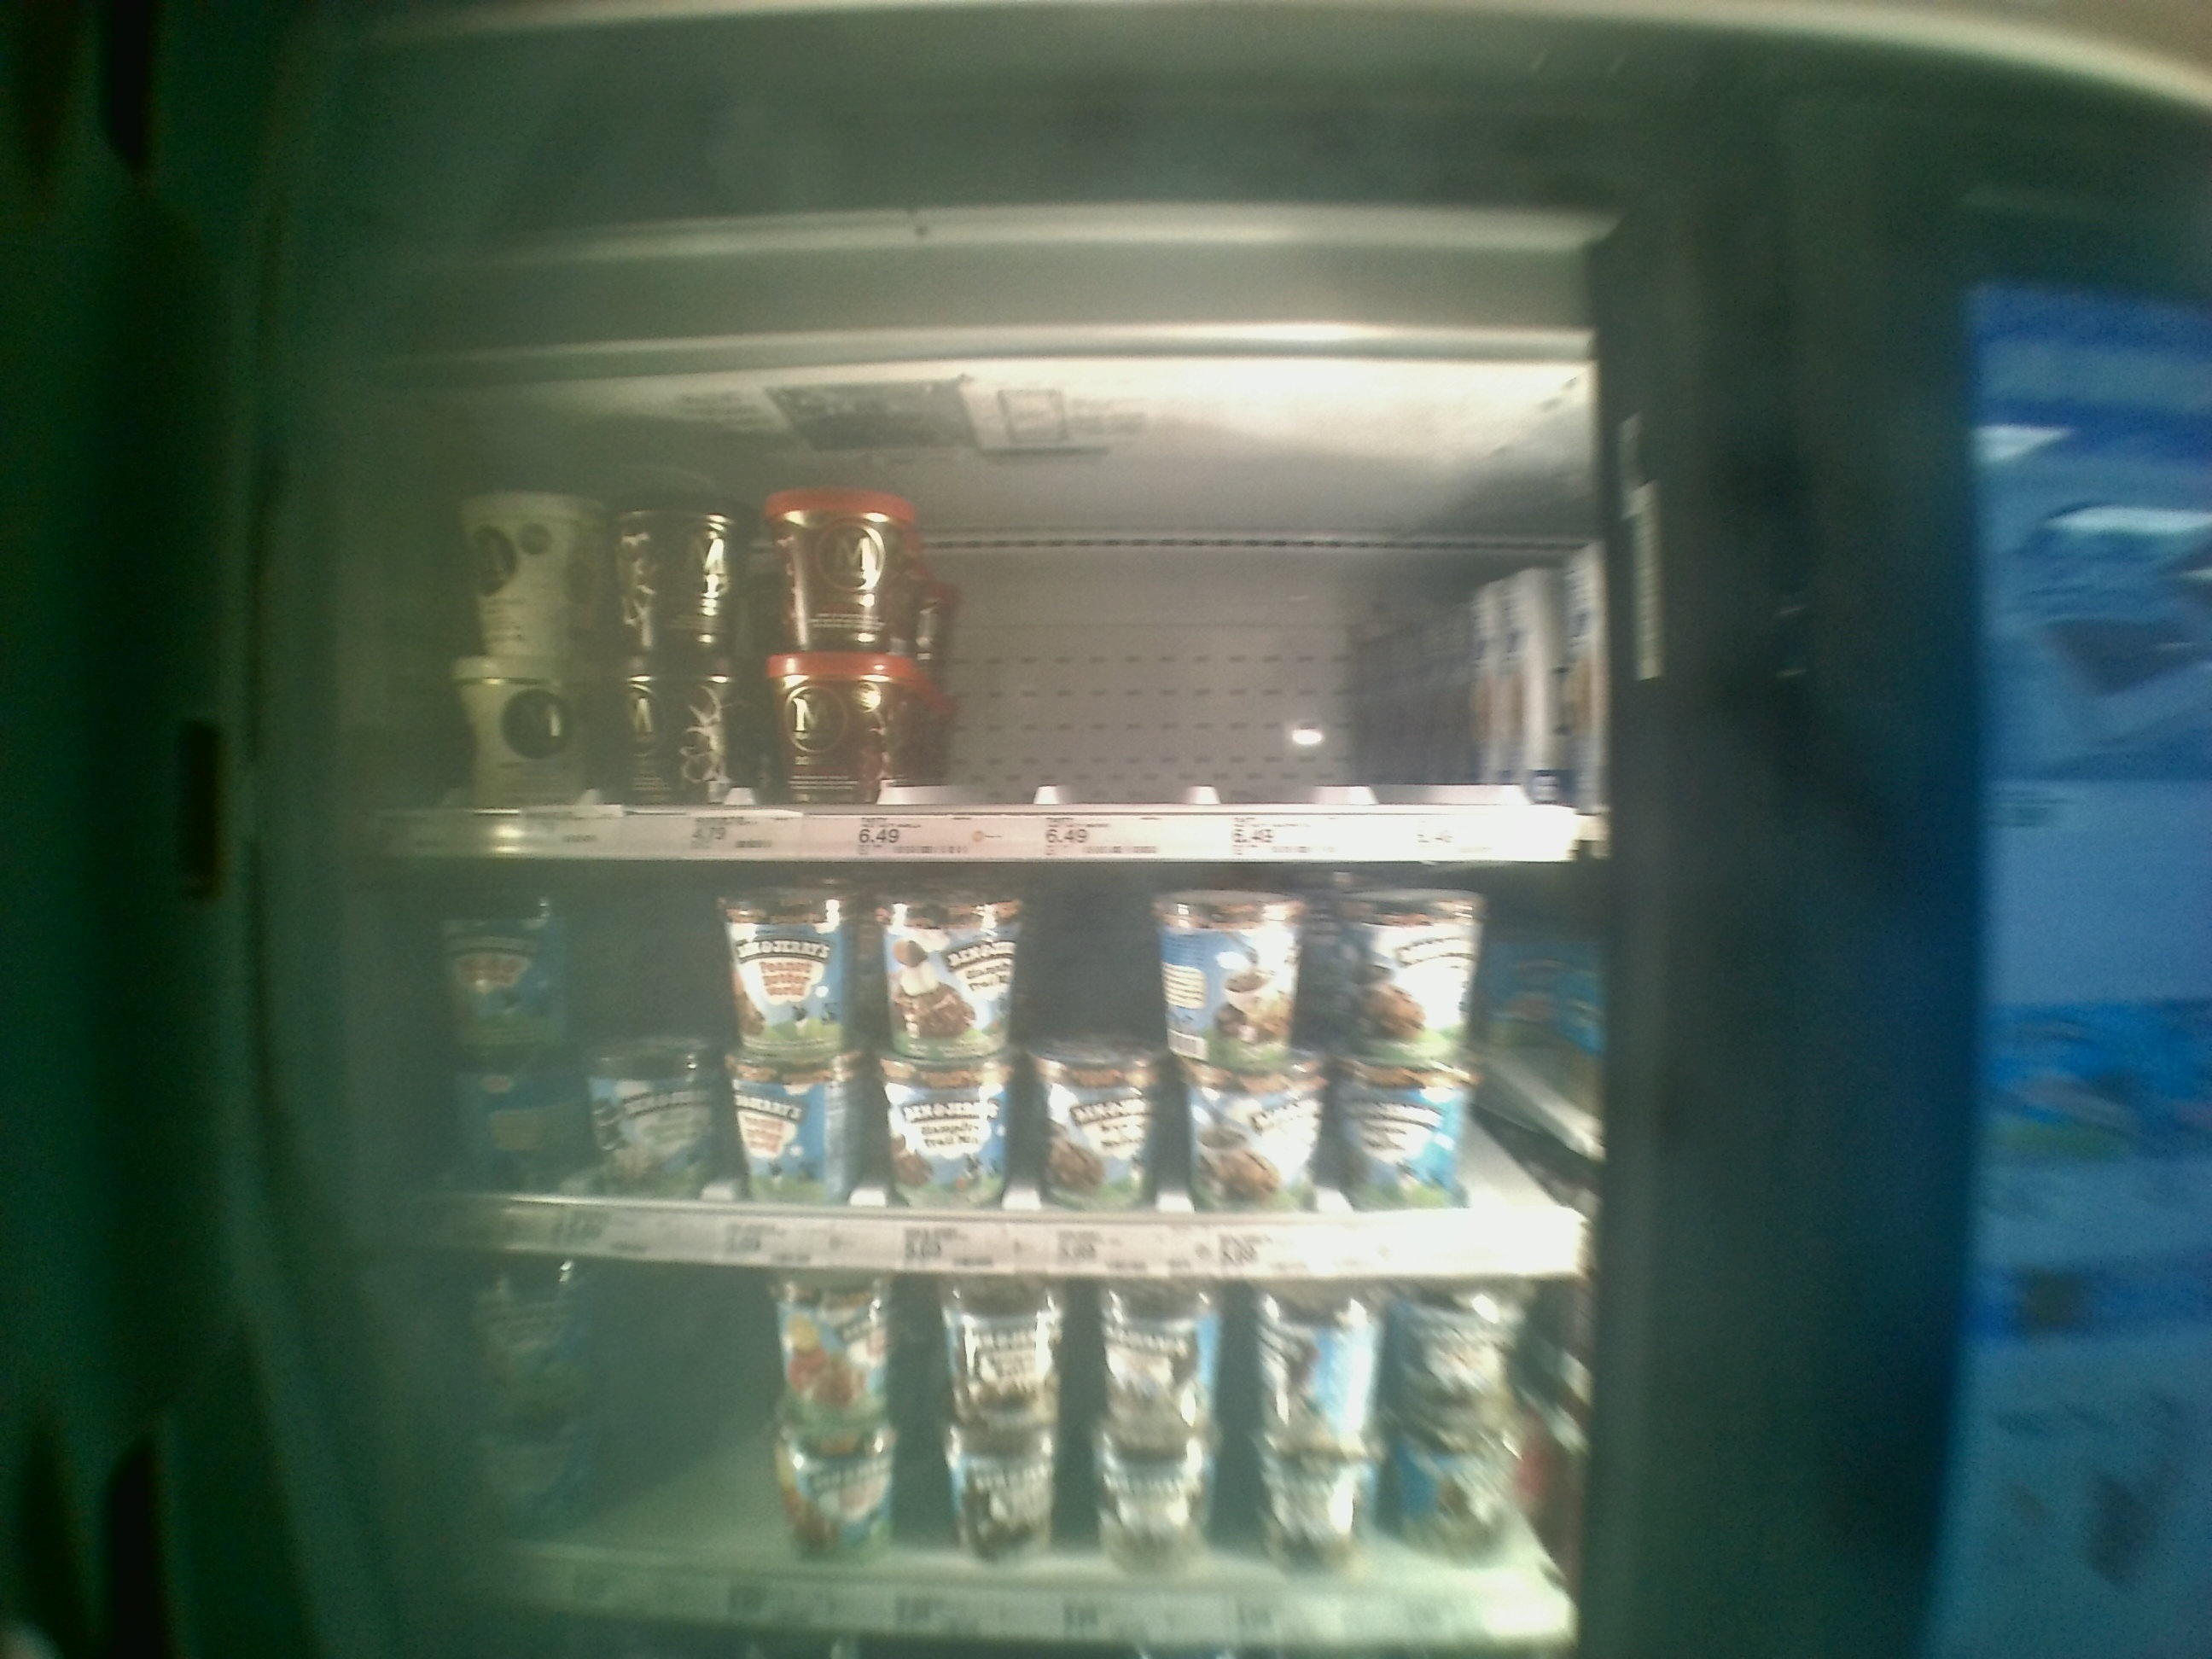shelf: (376, 410, 1604, 857), (371, 857, 1594, 1284)
